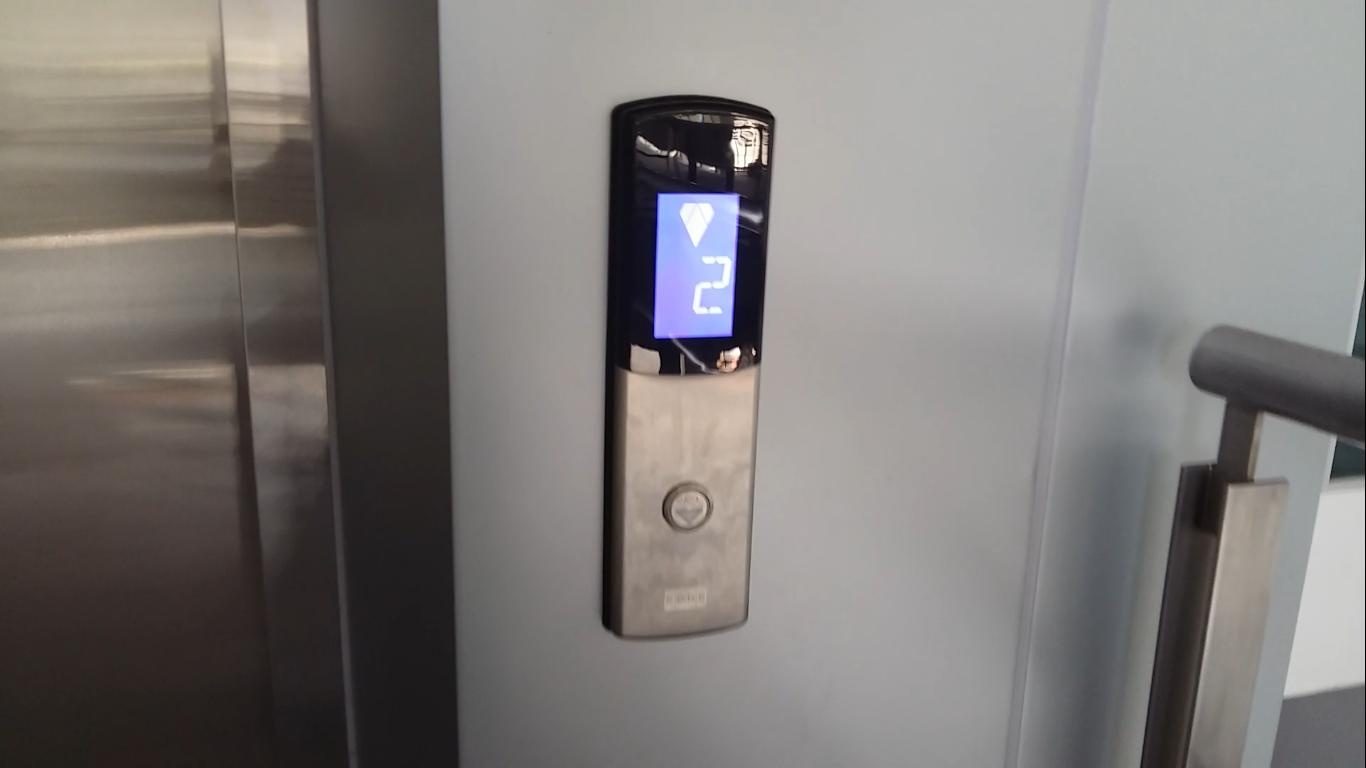down: (660, 483, 712, 532)
led: (652, 184, 743, 344)
